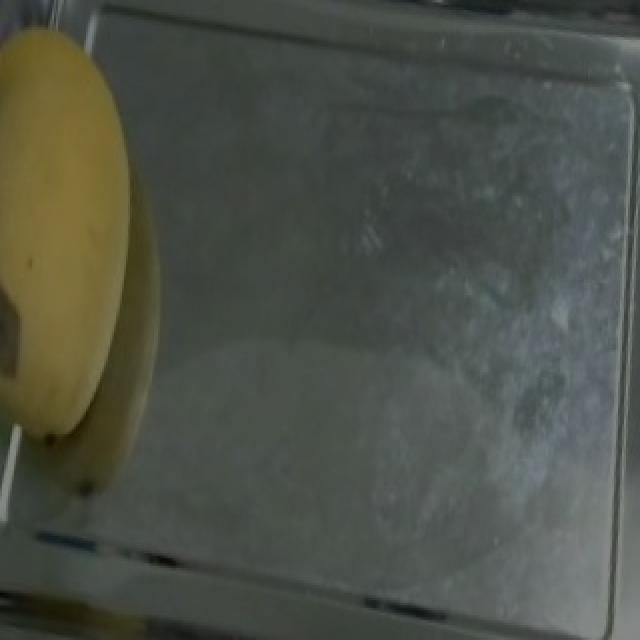fruit: (0, 12, 162, 380)
